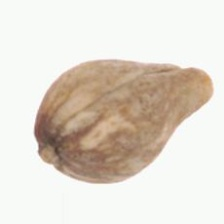L1: (158, 62, 215, 99), (32, 130, 66, 172)
L2: (34, 58, 213, 184)
